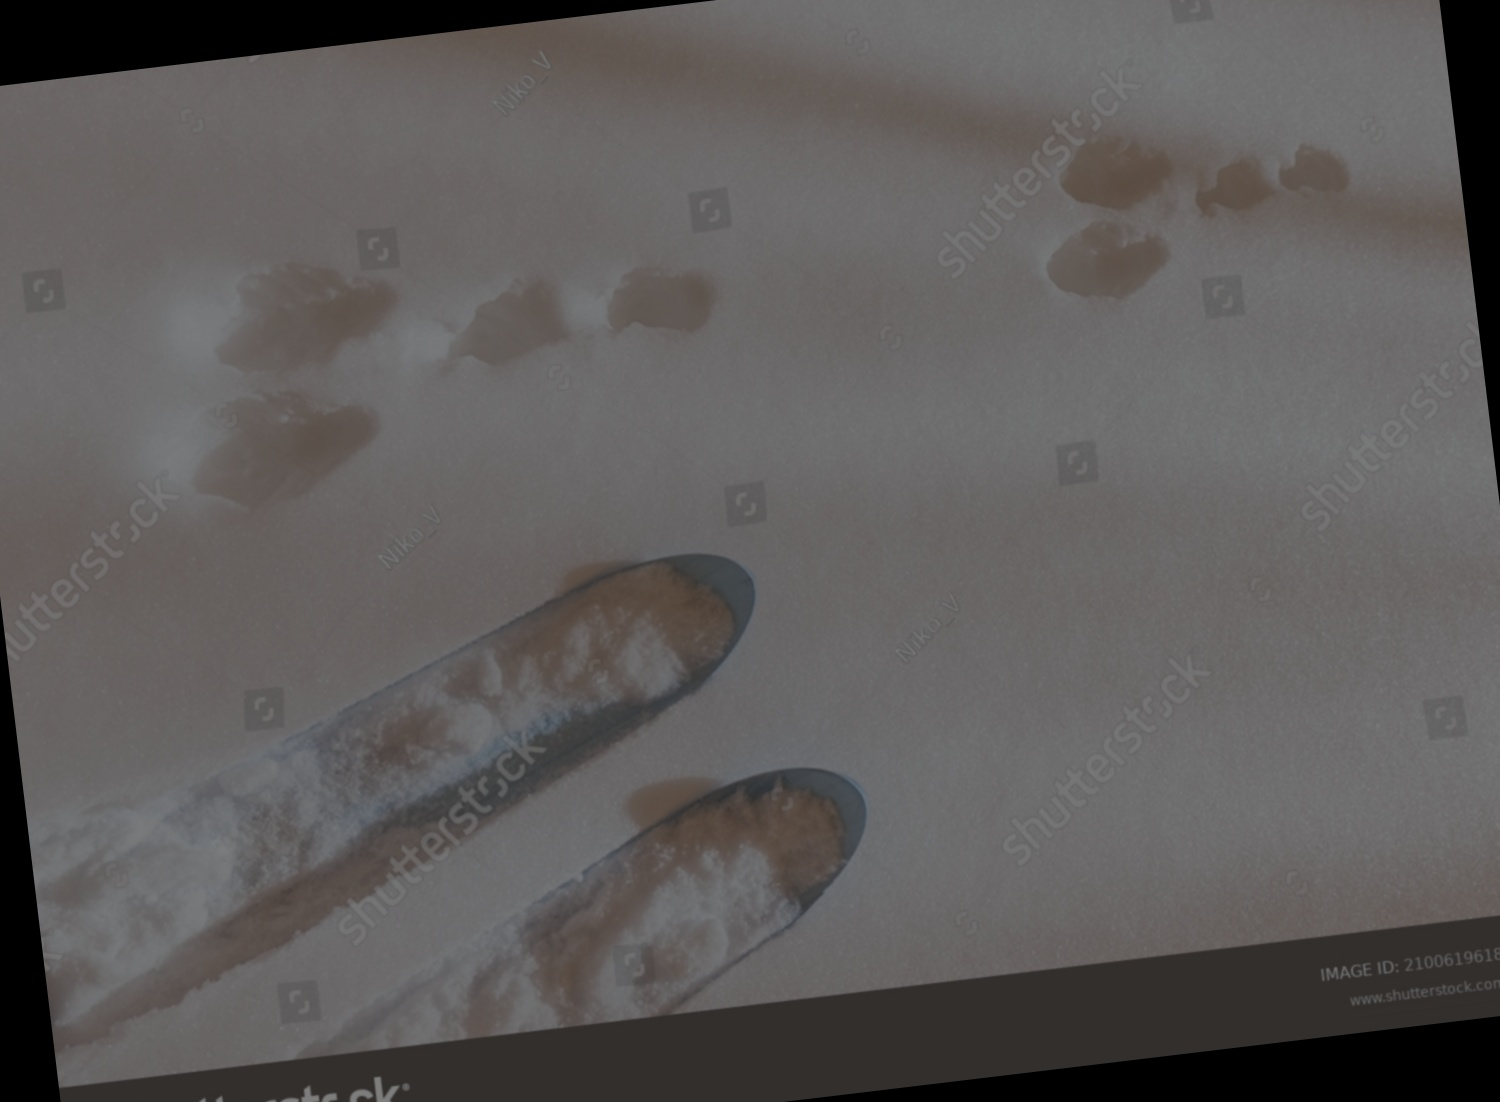lapin: (1016, 110, 1209, 344), (156, 375, 405, 532), (178, 233, 417, 393), (1186, 108, 1387, 245), (433, 245, 590, 407), (586, 236, 738, 360)
